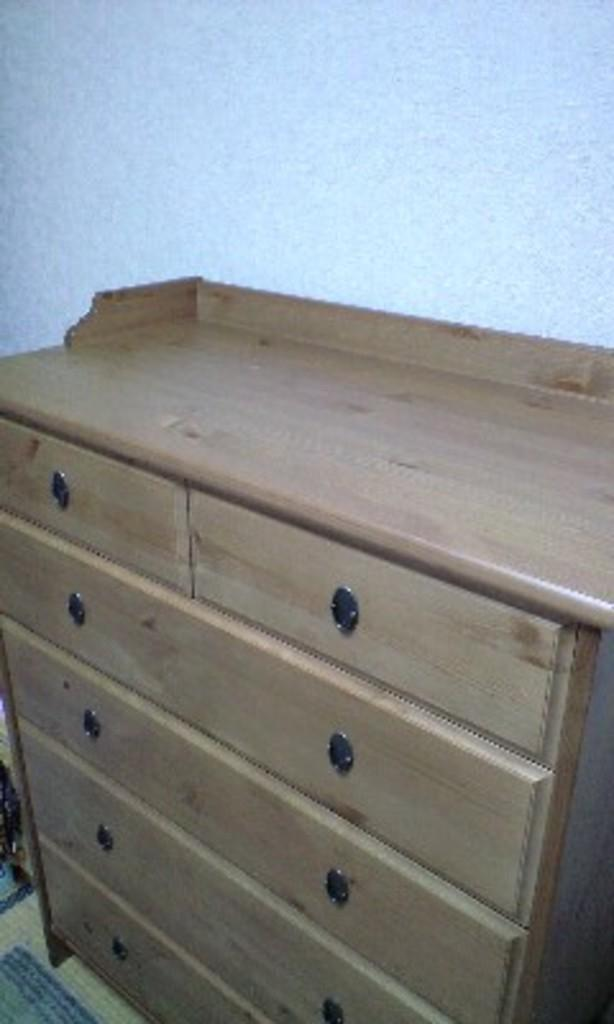cabinet_door: (44, 672, 483, 914), (34, 592, 498, 775), (201, 513, 561, 714), (49, 814, 340, 972), (8, 434, 169, 550), (62, 899, 220, 1007)
handle: (322, 582, 356, 637), (322, 864, 352, 924), (328, 721, 354, 785), (80, 692, 101, 750), (95, 814, 117, 866), (68, 586, 88, 639), (49, 468, 72, 514), (110, 932, 128, 974), (320, 993, 344, 1024)
